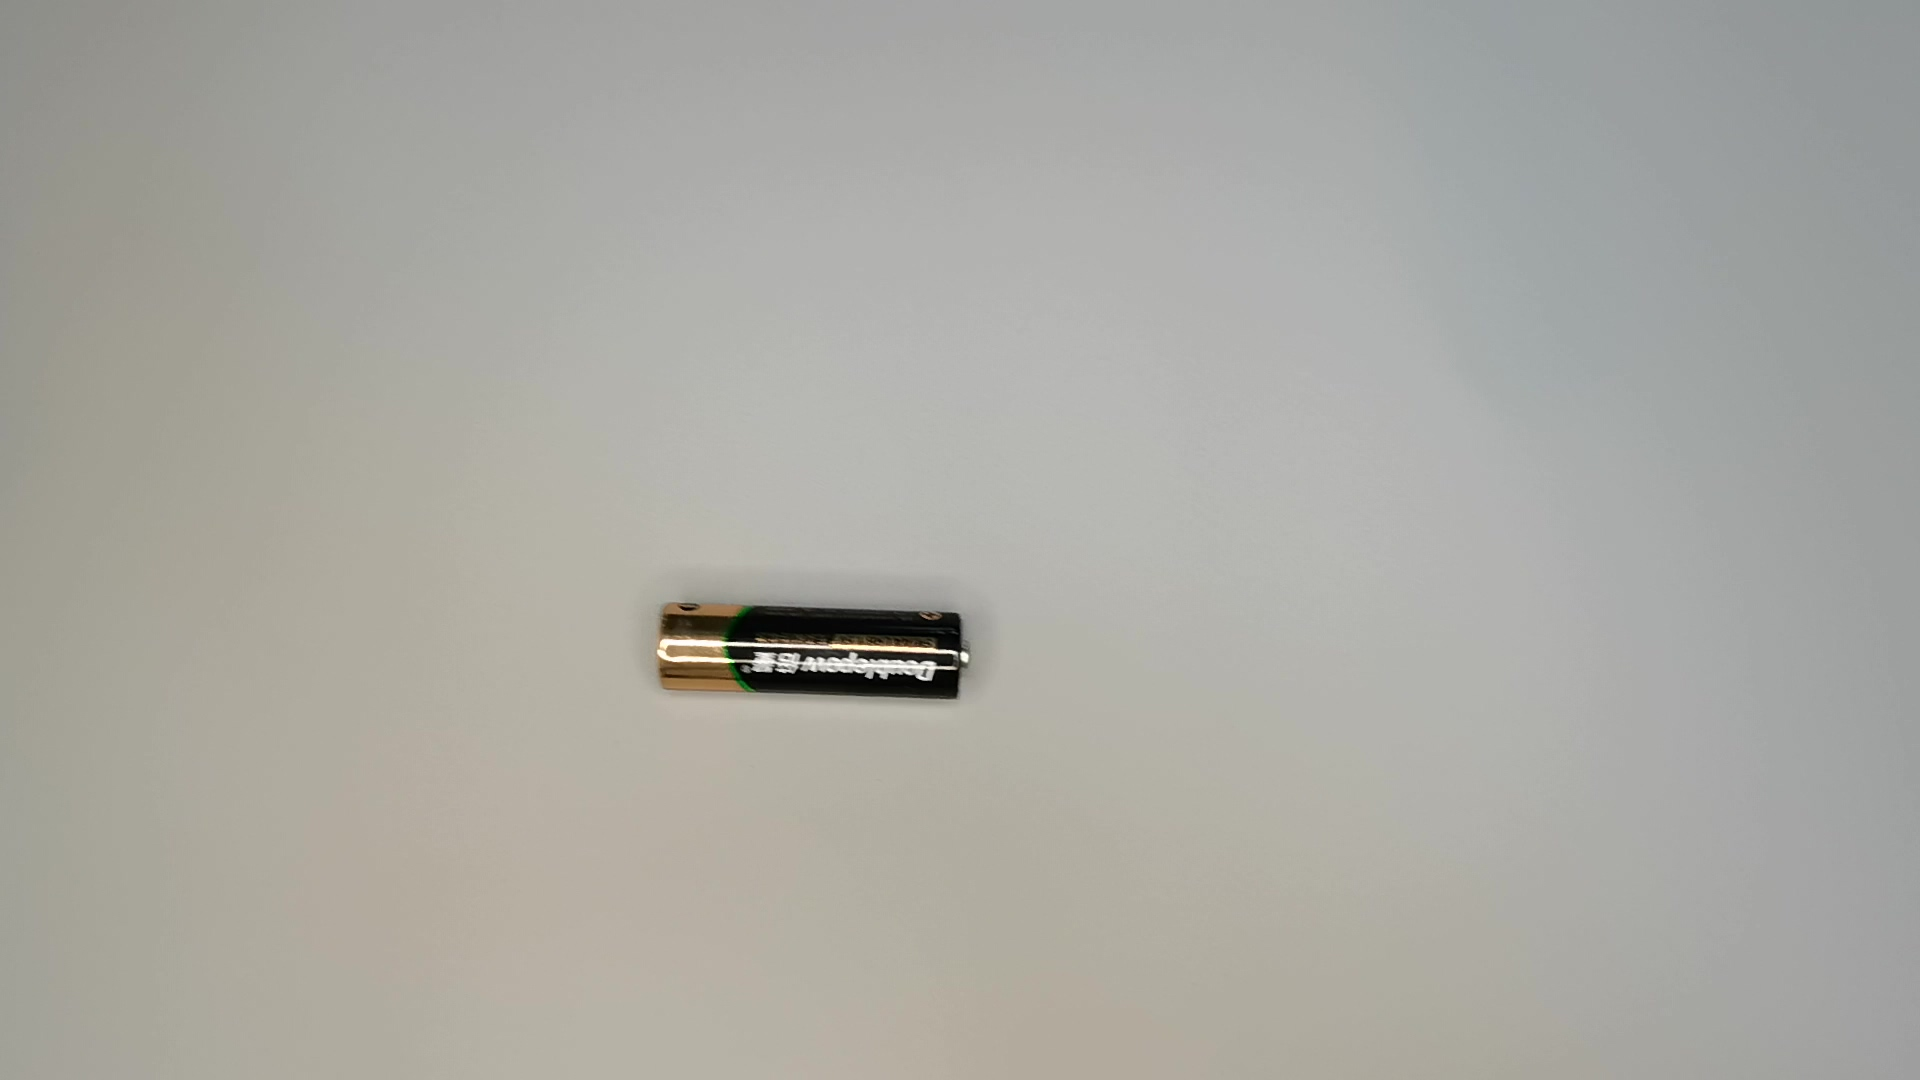battery: (649, 593, 982, 711)
